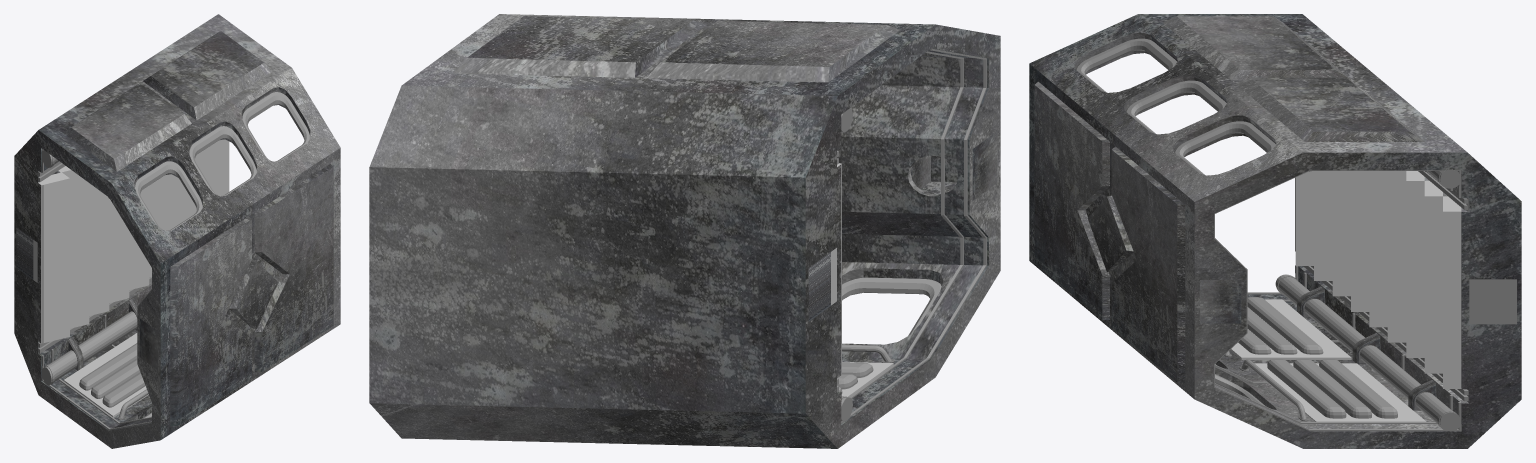
Rendered from Corridor Stairs.obj.
3 renders of one model, left to right at view 1: azimuth 30°, elevation 25°; view 2: azimuth 150°, elevation 25°; view 3: azimuth 270°, elevation 25°, orthographic. The views are drawn at different scales.
Visible parts, largest first — view 1: Object.1; view 2: Object.1; view 3: Object.1.
Boxes of the visible parts, x1,y1,x2,y2 form: Object.1: (14, 14, 340, 448); Object.1: (369, 14, 1000, 448); Object.1: (1029, 14, 1521, 448).
Bounding box in the file's own units: 29.62 × 31.08 × 44.45.
